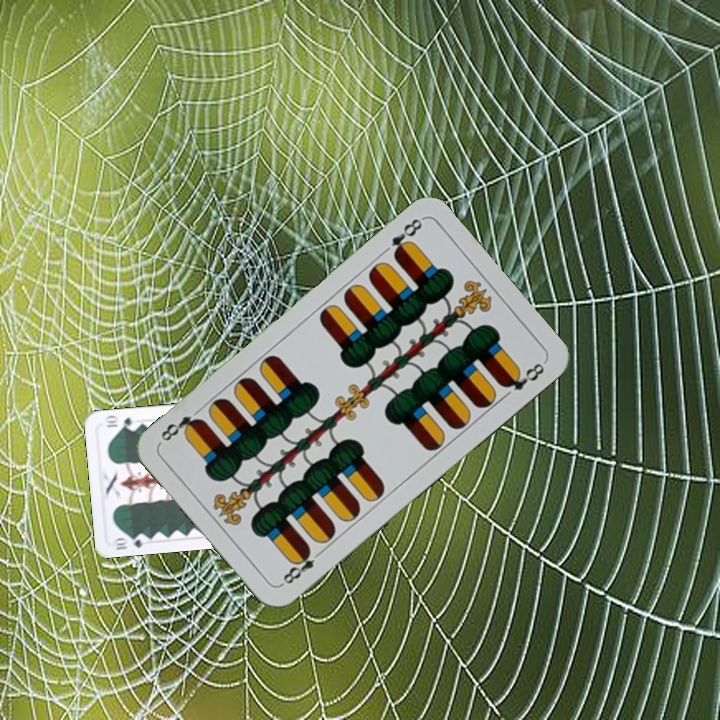E8: (277, 544, 327, 588), (387, 214, 426, 261)
G10: (109, 530, 149, 552)
